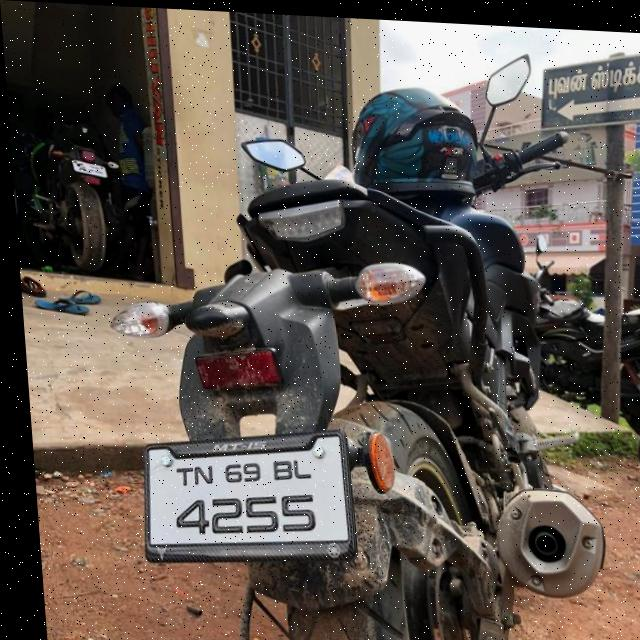plate: (128, 418, 350, 569), (62, 156, 113, 178)
